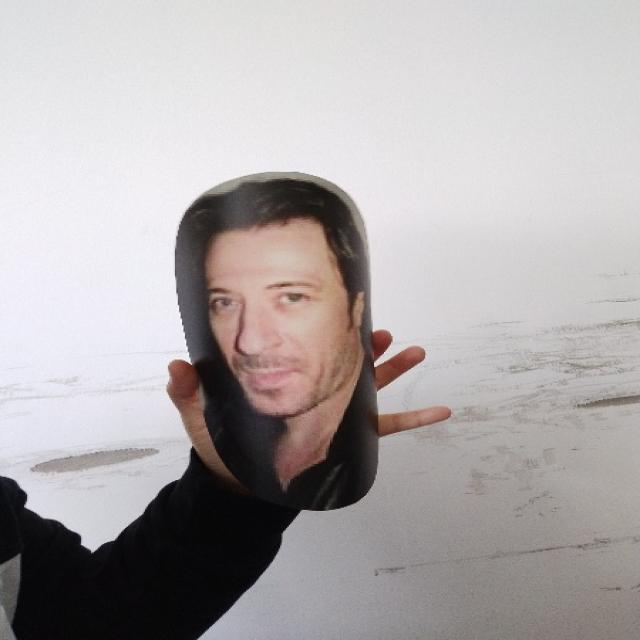photo: (154, 156, 406, 515)
